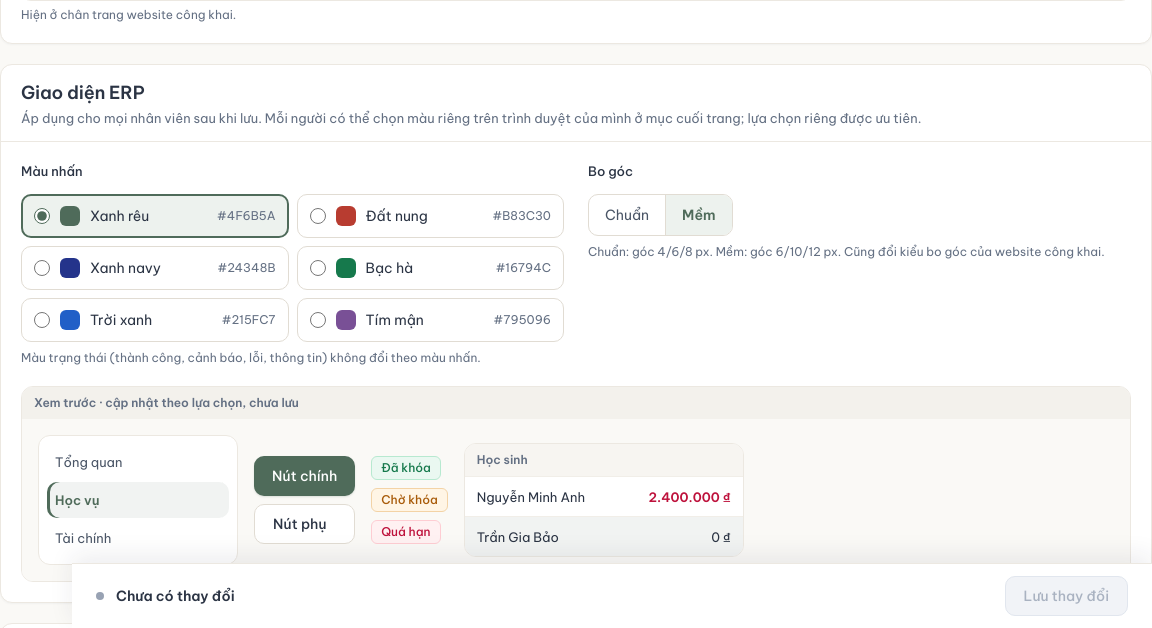
branding page › keeps the edits and shows a danger banner in the bar when saving fails
(page scrolled)
Click the radio button labelled "Bạc hà #16794C" at (318, 268), box x1=310 y1=260 x2=326 y2=276
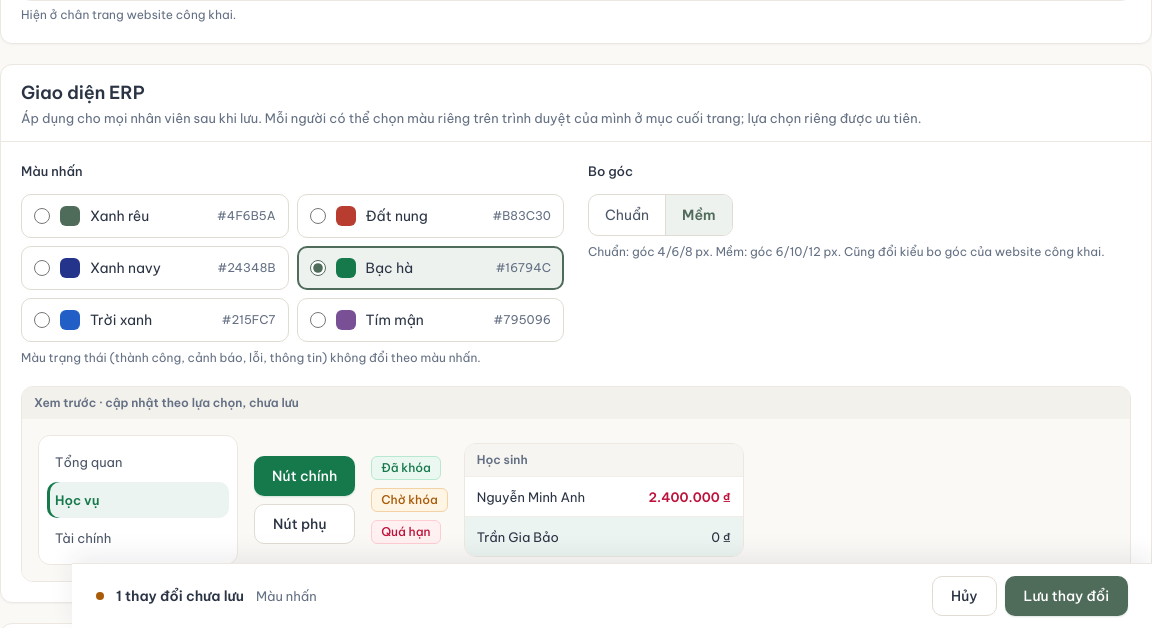
Click the button "Lưu thay đổi" at (1066, 596), box x1=1005 y1=576 x2=1128 y2=616
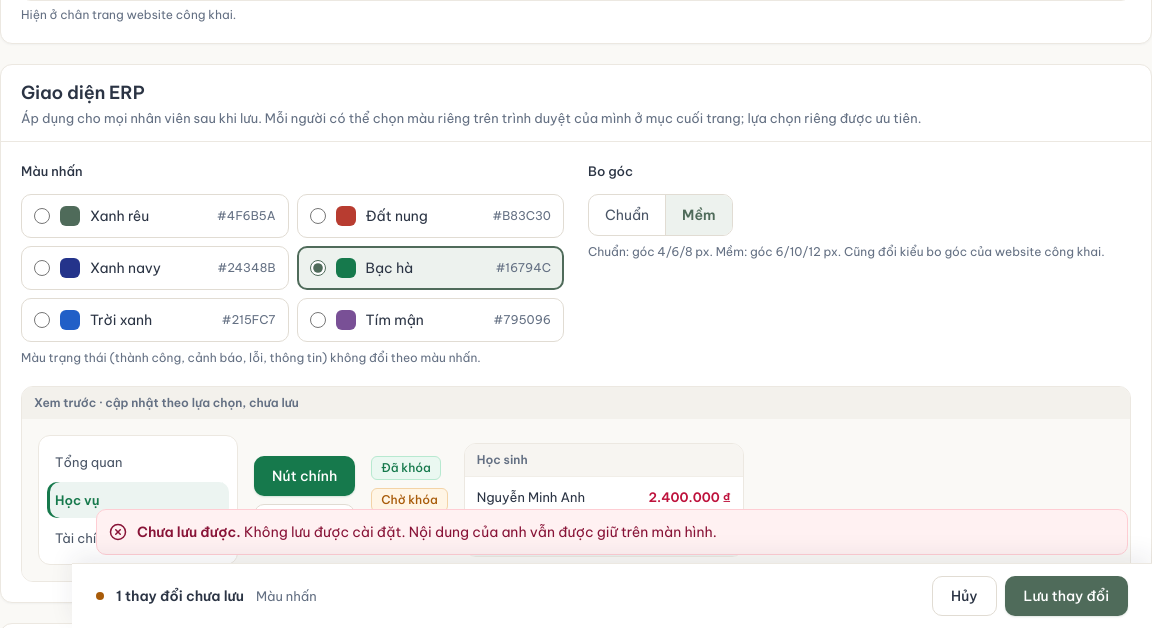
Check: the radio button labelled "Bạc hà #16794C" is checked, box x1=310 y1=260 x2=326 y2=276
Check: the element named "Thanh lưu thay đổi" shows "1 thay đổi chưa lưu", box x1=116 y1=587 x2=244 y2=605
Check: the message shows "Không lưu được cài đặt.", box x1=244 y1=523 x2=717 y2=541
